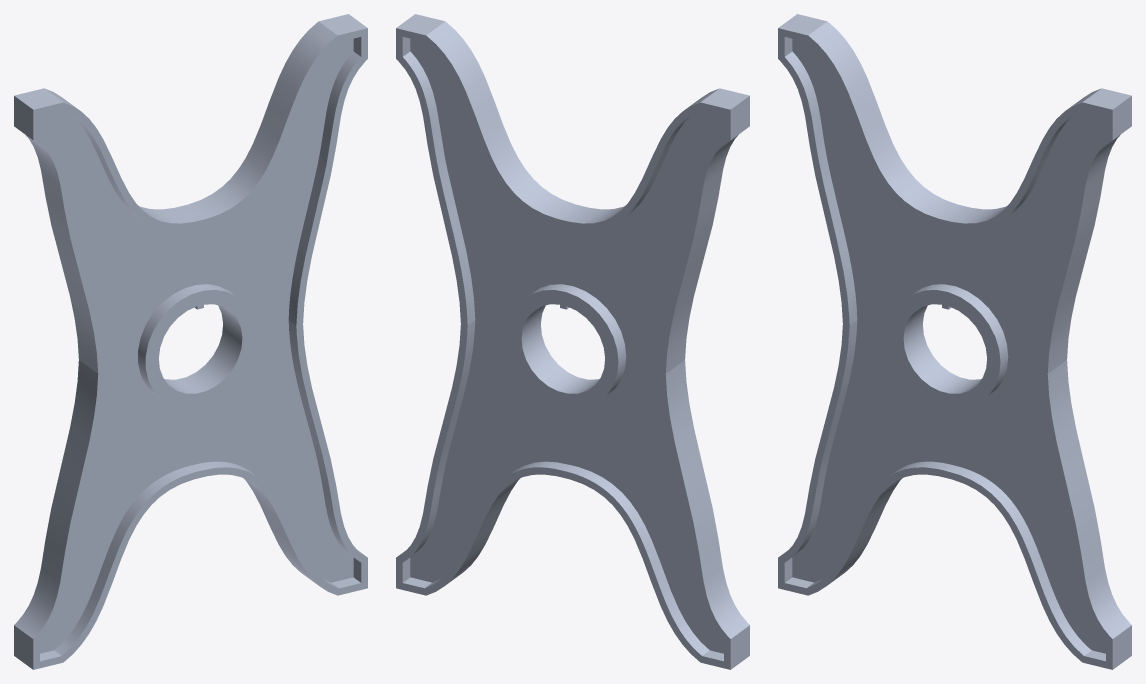
The model's file is Rocker_Shaft_Mount_1.dae.
3 renders of one model, left to right at view 1: azimuth 30°, elevation 25°; view 2: azimuth 150°, elevation 25°; view 3: azimuth 330°, elevation 25°, orthographic.
Parts seen in each view (by area): view 1: node0; view 2: node0; view 3: node0.
Part boxes in pixels (x1,y1,x2,y2): node0: (14,14,367,669); node0: (396,14,749,669); node0: (778,14,1131,669).
Size of the model in its own units: 0.127 by 0.2032 by 0.0127.
